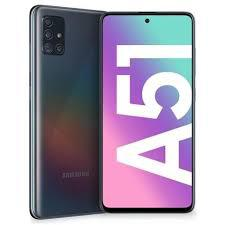Smartphone: (105, 10, 196, 214), (34, 9, 101, 216)
